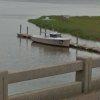Boat: (18, 23, 72, 53)
